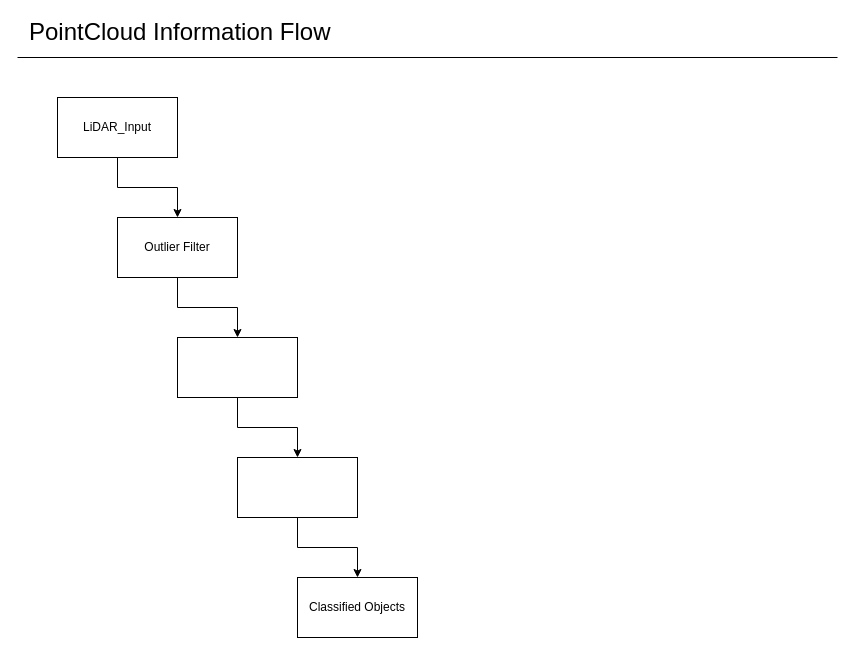
Some shapes in this 856 by 655 pixel diagram are drawn without their labels. Each missing label, with the centre of its shape:
"Classification" belongs at [297,487].
"Voxel Filter" belongs at [237,367].
